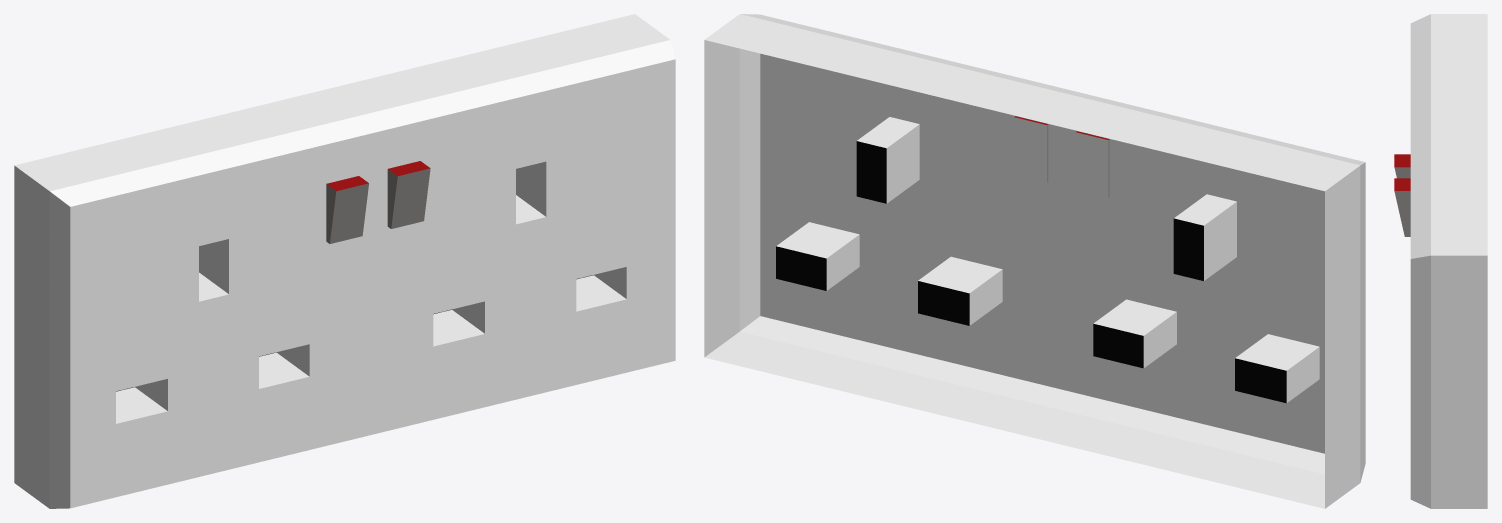
File: Plug_Socket_Double.fbx
3 views of the same model, side by side, from view 1: azimuth 30°, elevation 25°; view 2: azimuth 150°, elevation 25°; view 3: azimuth 270°, elevation 25° (orthographic). The views are drawn at different scales.
Visible parts, largest first — view 1: Cube.267; view 2: Cube.267; view 3: Cube.267.
Part boxes in pixels (bbox=[...]): Cube.267: bbox=[14, 14, 675, 508]; Cube.267: bbox=[704, 14, 1365, 508]; Cube.267: bbox=[1394, 14, 1487, 508].
Bounding box in the file's own units: 28.35 × 13.86 × 4.62.
